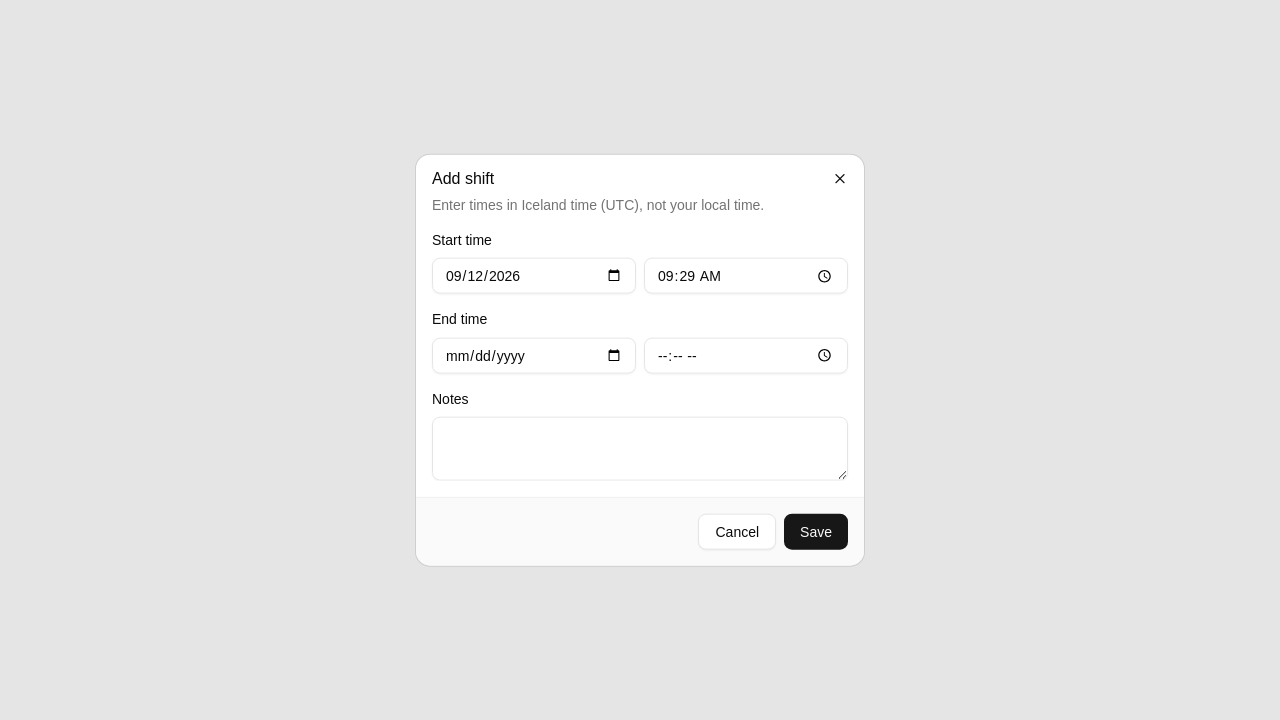
ShiftForm › still rejects an overnight shift left on one date
Type "2026-08-04" into the date field named "Start time — date" at (534, 276), box x1=432 y1=258 x2=636 y2=294
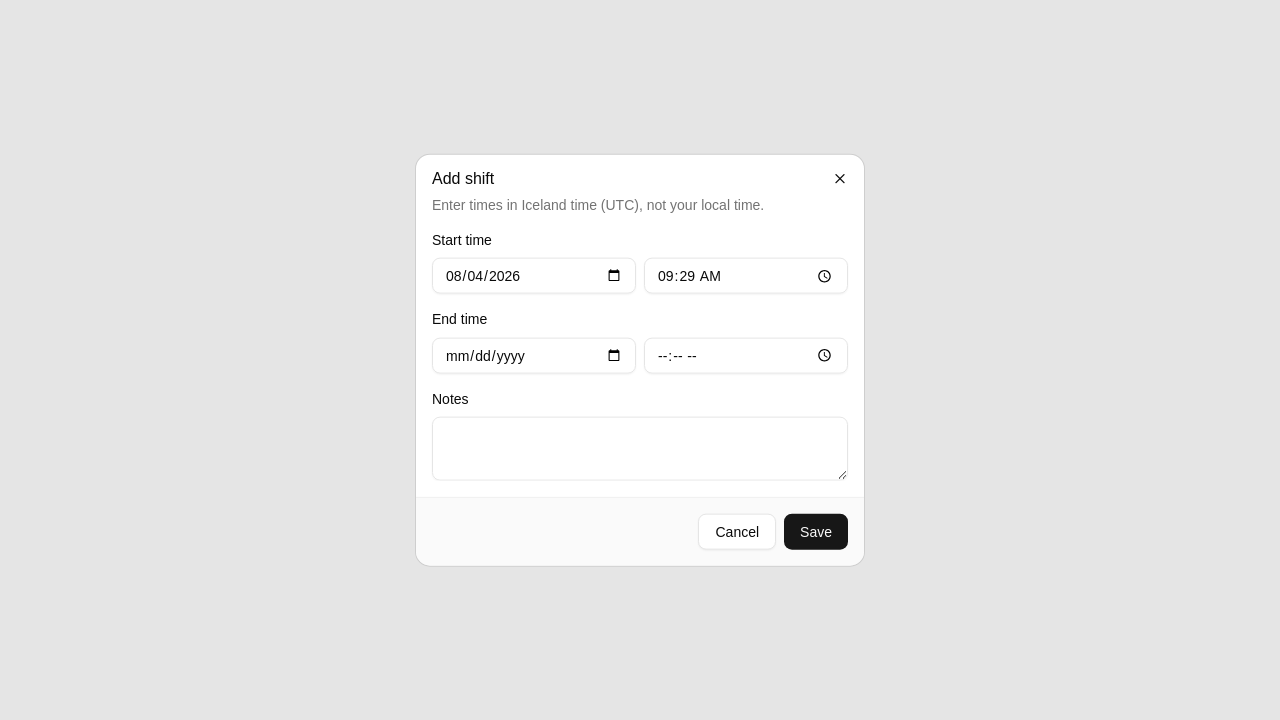
Replace the text in the time field named "Start time — time" with "20:00" at (746, 276), box x1=644 y1=258 x2=848 y2=294
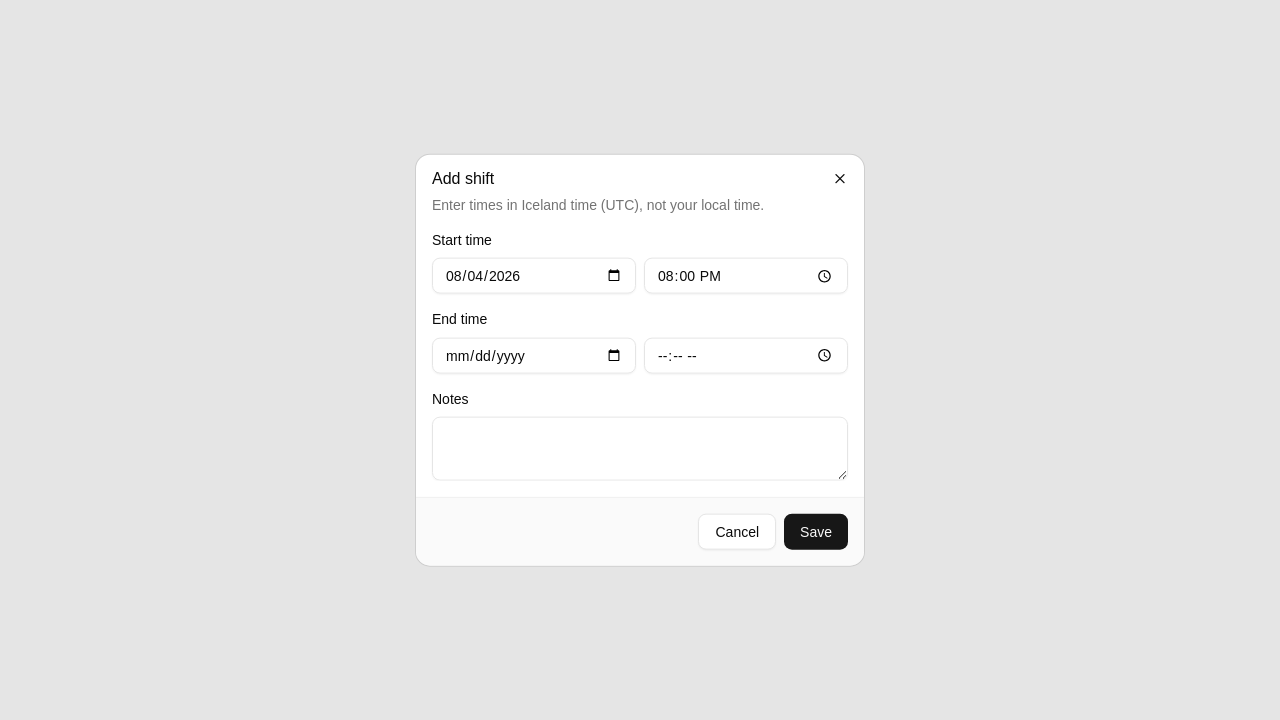
Type "2026-08-04" into the date field named "End time — date" at (534, 355), box x1=432 y1=337 x2=636 y2=373
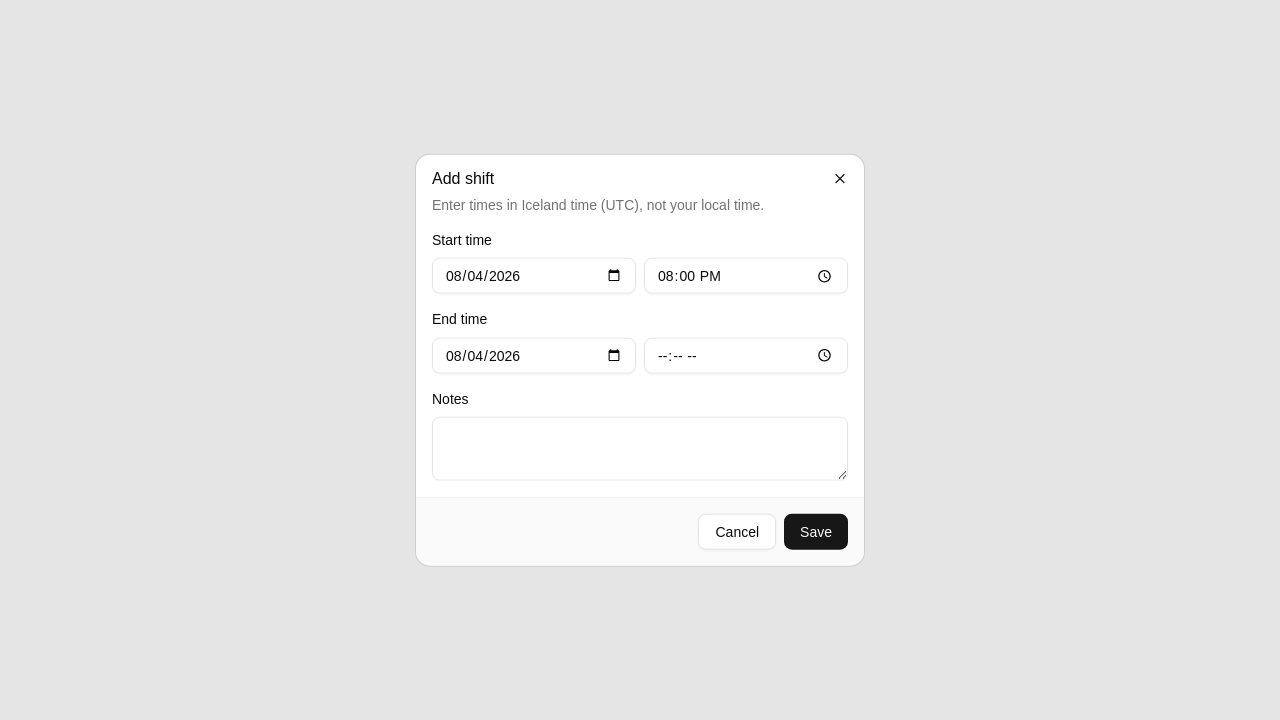
Type "03:00" into the time field named "End time — time" at (746, 355), box x1=644 y1=337 x2=848 y2=373
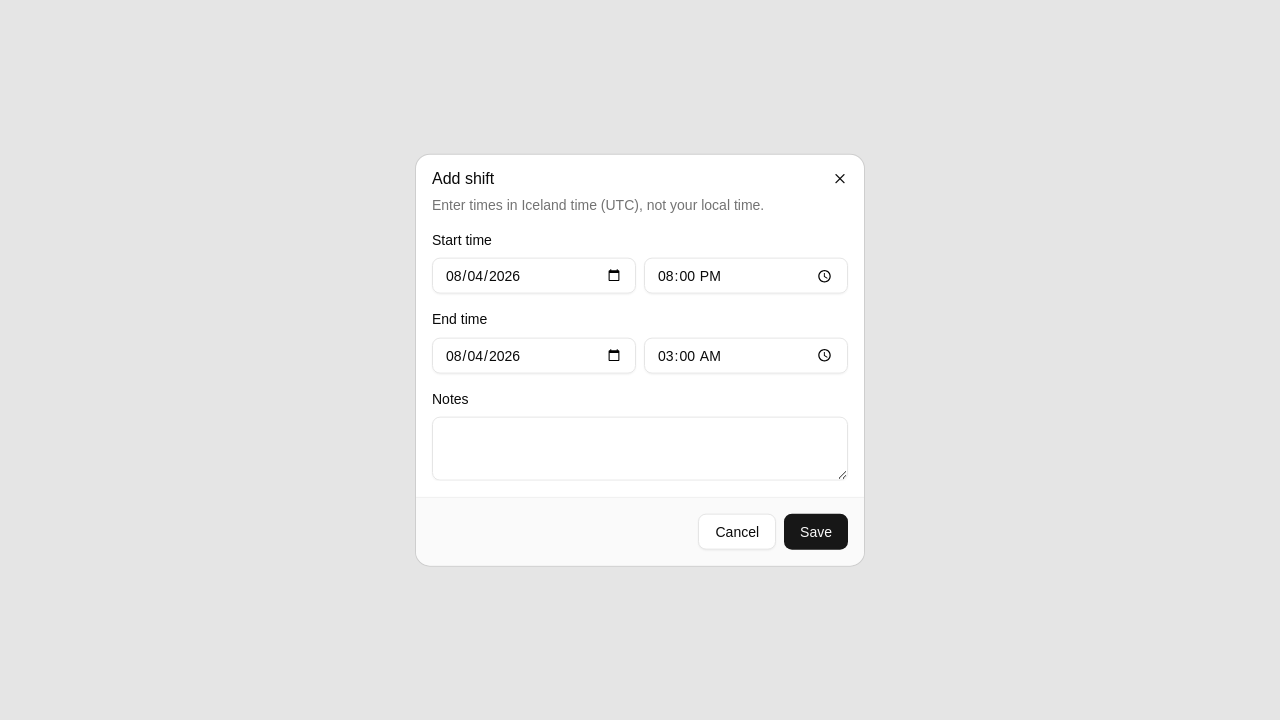
Click the button "Save" at (816, 531), box x1=784 y1=513 x2=848 y2=549
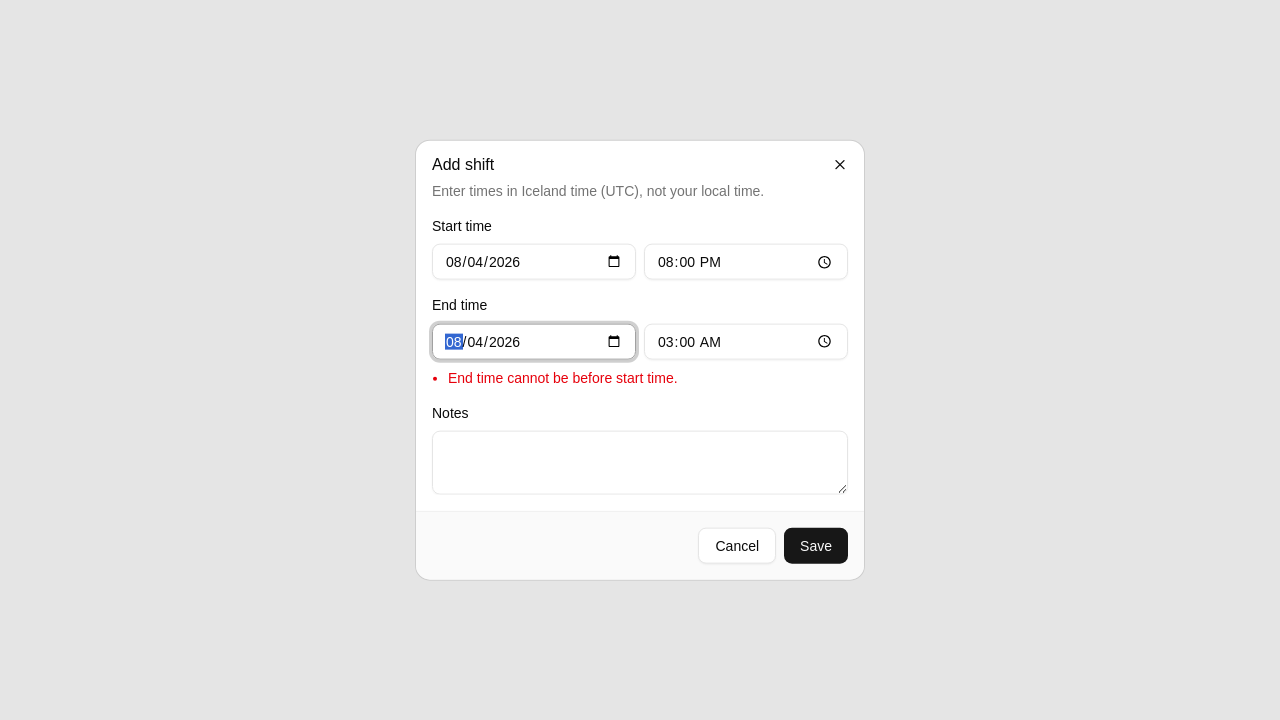
Expected: the list item "End time cannot be before start time." is shown, x1=448 y1=369 x2=678 y2=385
